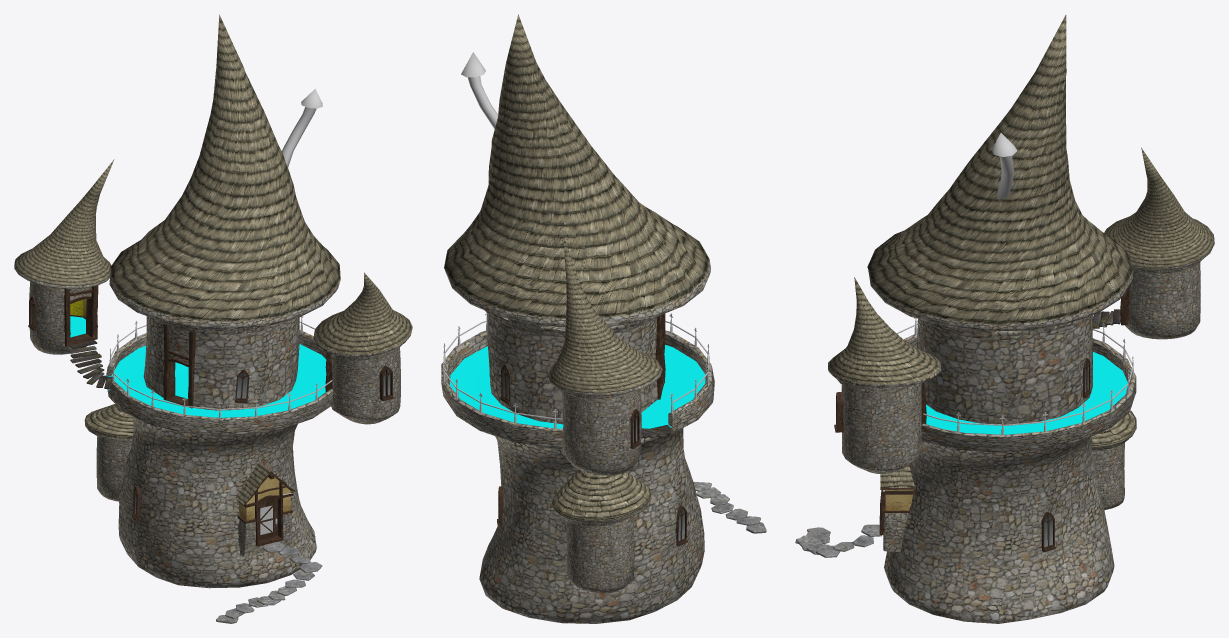
The model's file is port_wizardtower_village.FBX.
The picture shows the model from 3 angles, left to right: view 1: azimuth 30°, elevation 25°; view 2: azimuth 150°, elevation 25°; view 3: azimuth 270°, elevation 25°; orthographic projection. The views are drawn at different scales.
Parts seen in each view (by area): view 1: port_WizardTower_village_exterior, port_WizardTower_village_decofloor, port_WizardTower_village_door; view 2: port_WizardTower_village_exterior, port_WizardTower_village_decofloor; view 3: port_WizardTower_village_exterior, port_WizardTower_village_decofloor.
Boxes of the visible parts, box(x1,y1,x2,y2) form: port_WizardTower_village_exterior: box(14, 14, 412, 623); port_WizardTower_village_decofloor: box(70, 316, 326, 417); port_WizardTower_village_door: box(258, 498, 277, 540); port_WizardTower_village_exterior: box(441, 14, 766, 623); port_WizardTower_village_decofloor: box(449, 344, 705, 428); port_WizardTower_village_exterior: box(821, 15, 1214, 623); port_WizardTower_village_decofloor: box(916, 347, 1127, 434).
Size of what is drawn, in the model's own units: 1996 by 3624 by 2377.
